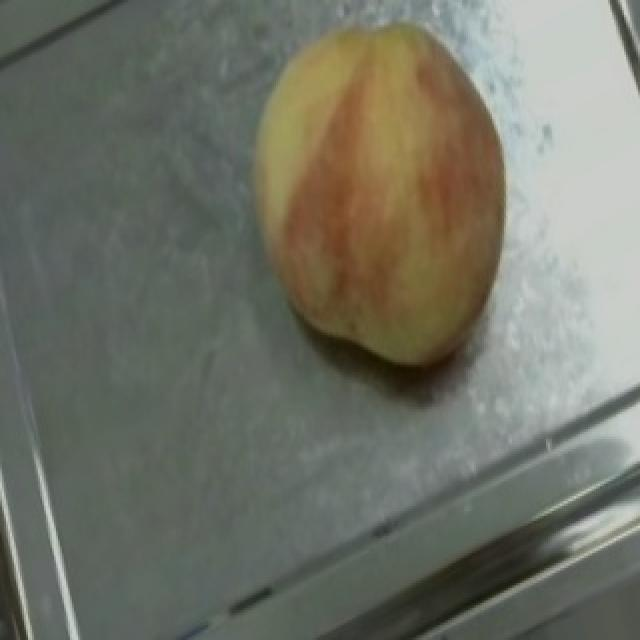Fruit: (204, 0, 530, 384)
